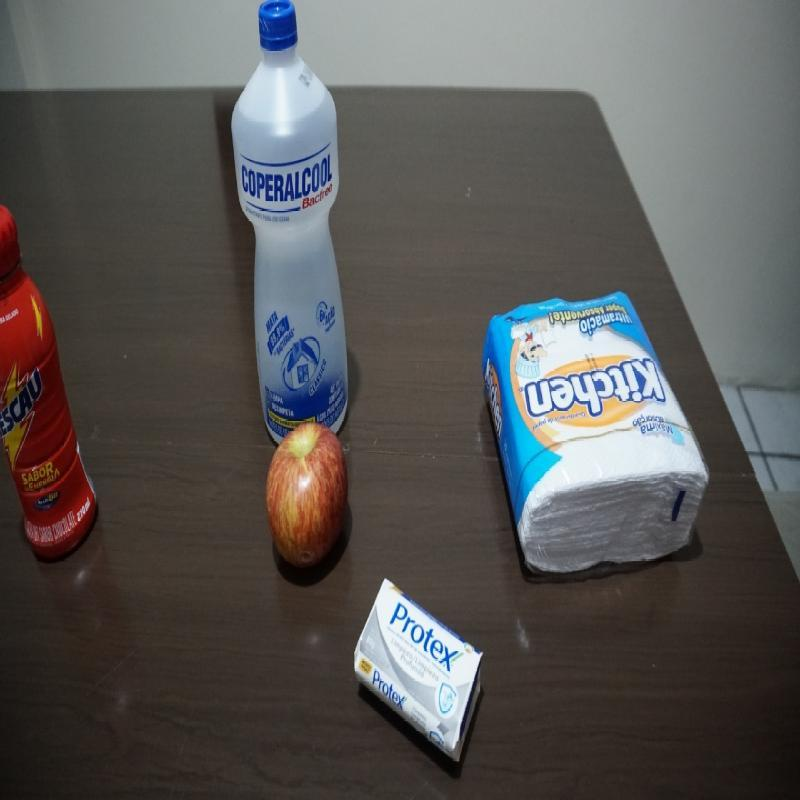Alcohol Bottle: (231, 0, 352, 440)
Apple: (250, 417, 354, 567)
Chocolate Milk: (0, 195, 97, 562)
Napkin: (476, 285, 704, 582)
Soap: (349, 581, 485, 766)
